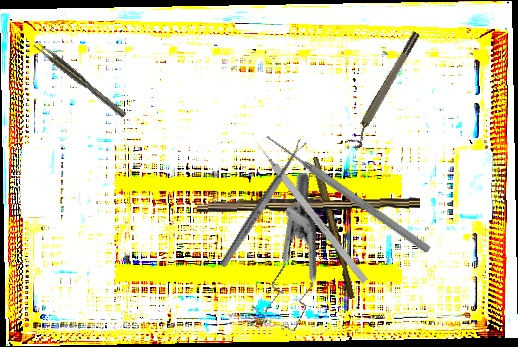Fixation Ring: (344, 29, 427, 152)
Hook Surgical: (250, 136, 369, 284)
Pusher: (262, 131, 433, 255)
Scalpel Handle: (308, 156, 358, 300), (196, 191, 421, 216)
Speculum: (212, 171, 362, 343)
Surgical Spoon: (218, 138, 308, 269)
Tissue Forceps: (32, 39, 127, 121)
